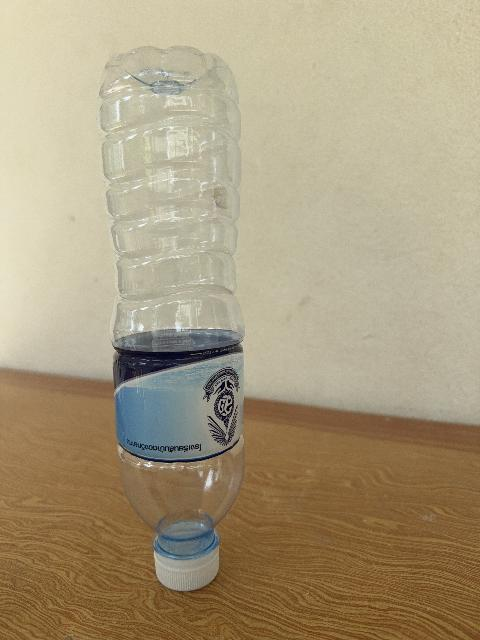bottle: (100, 47, 244, 590)
